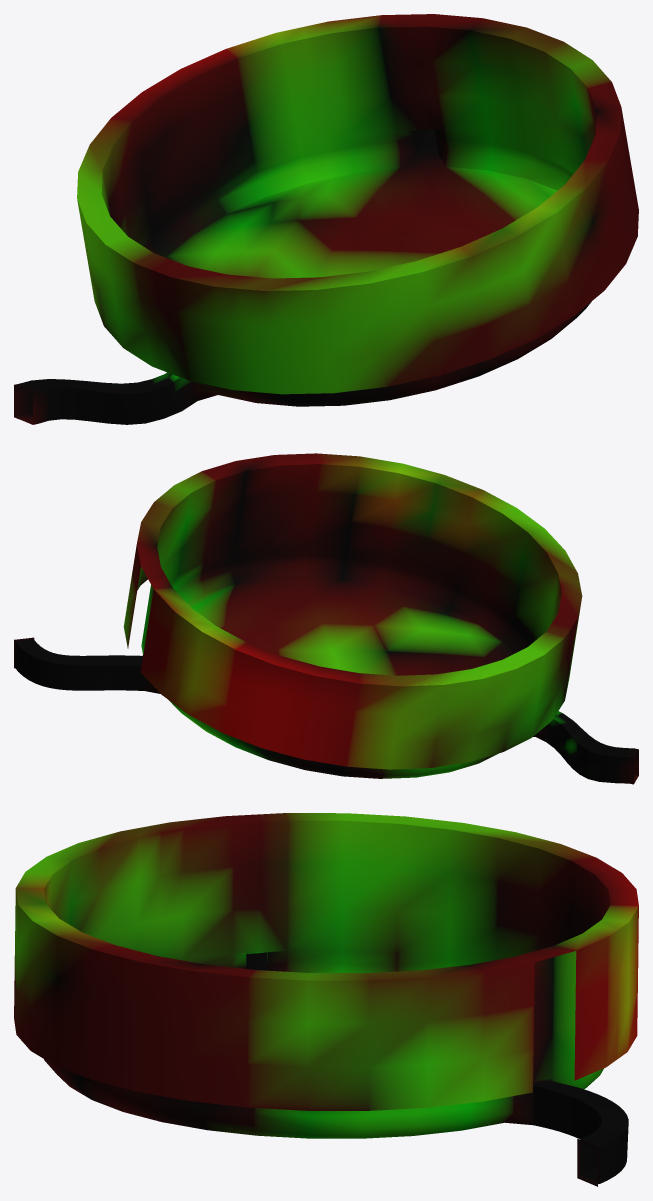
File: castle_sanctum_bowl.obj
3 renders of one model, top to bottom at view 1: azimuth 30°, elevation 25°; view 2: azimuth 150°, elevation 25°; view 3: azimuth 270°, elevation 25°, orthographic. The views are drawn at different scales.
Parts seen in each view (by area): view 1: Bowl; view 2: Bowl; view 3: Bowl.
Part boxes in pixels (x1,y1,x2,y2): Bowl: (14, 14, 638, 424); Bowl: (14, 453, 638, 784); Bowl: (14, 813, 638, 1186).
Size of the model in its own units: 61.92 by 21.57 by 46.24.
